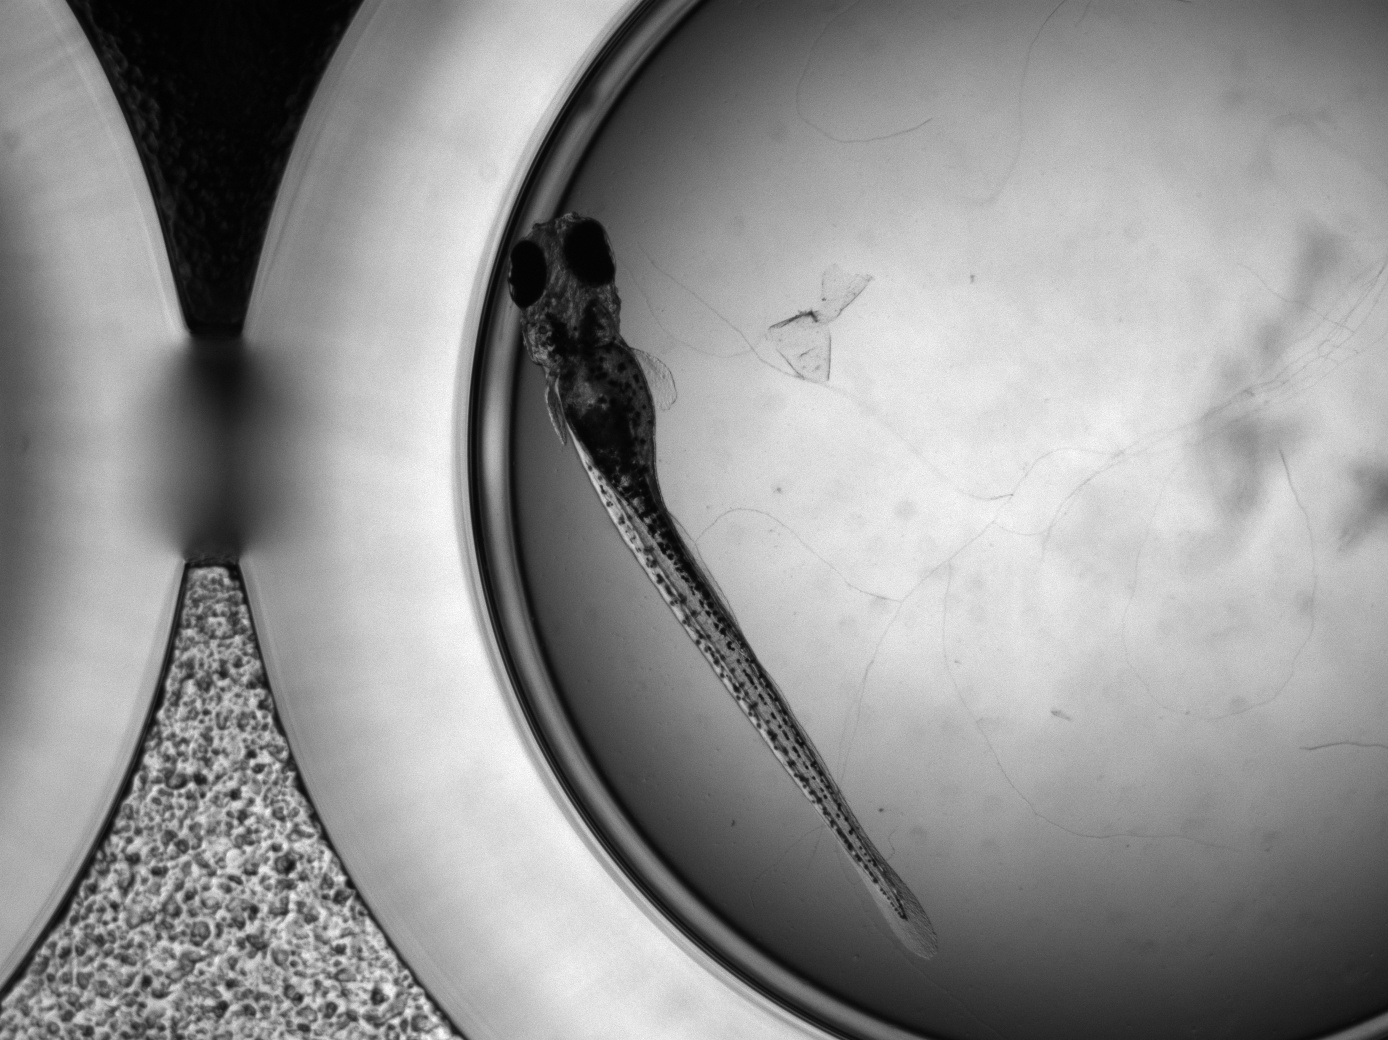embryo: (505, 206, 942, 961)
eye: (561, 218, 615, 287), (507, 240, 547, 309)
yolksac: (556, 344, 656, 453)
